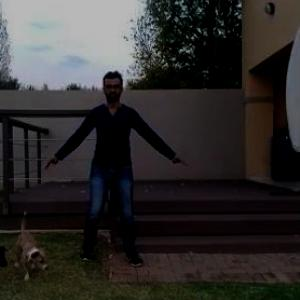land: (48, 83, 200, 256)
